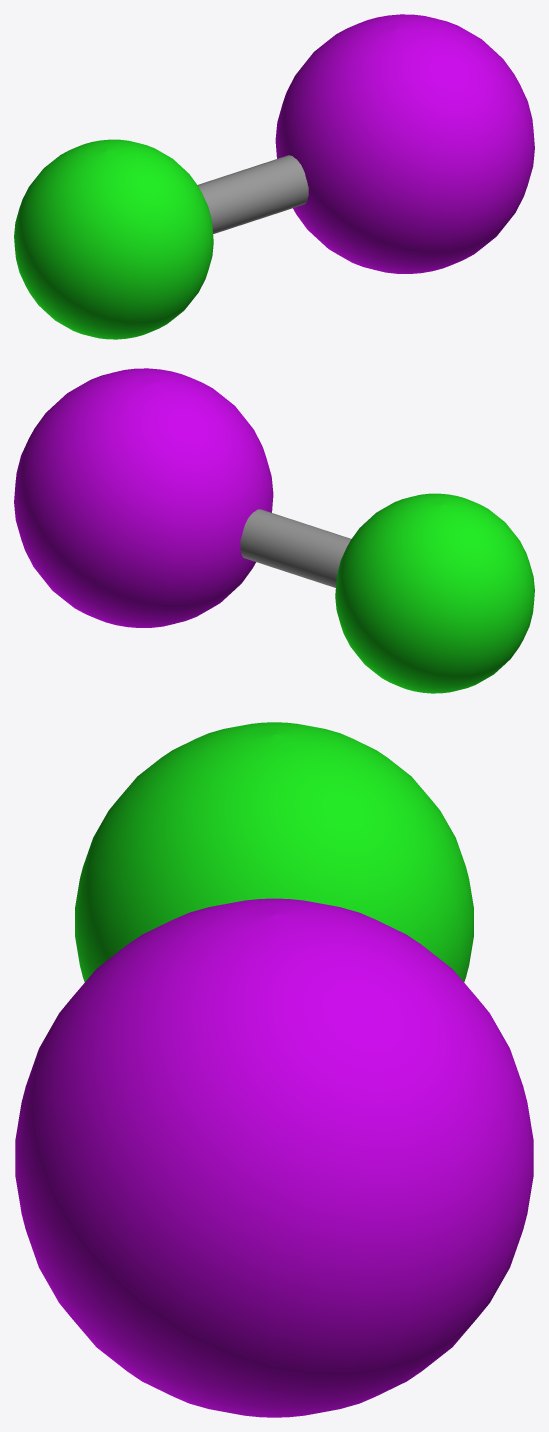
File: kclbaru2.fbx
3 renders of one model, top to bottom at view 1: azimuth 30°, elevation 25°; view 2: azimuth 150°, elevation 25°; view 3: azimuth 270°, elevation 25°, orthographic. The views are drawn at different scales.
Parts seen in each view (by area): view 1: _mesh| _ball|Dupli|, Carbon_mesh|Carbon_ball|Dupli|; view 2: _mesh| _ball|Dupli|, Carbon_mesh|Carbon_ball|Dupli|; view 3: _mesh| _ball|Dupli|, Carbon_mesh|Carbon_ball|Dupli|.
Part boxes in pixels (bbox=[...]): _mesh| _ball|Dupli|: bbox=[275, 14, 534, 273]; Carbon_mesh|Carbon_ball|Dupli|: bbox=[14, 139, 213, 339]; _mesh| _ball|Dupli|: bbox=[14, 368, 273, 627]; Carbon_mesh|Carbon_ball|Dupli|: bbox=[335, 493, 534, 693]; _mesh| _ball|Dupli|: bbox=[15, 898, 533, 1417]; Carbon_mesh|Carbon_ball|Dupli|: bbox=[75, 722, 473, 982].
Size of the model in its own units: 436 by 199 by 199.
